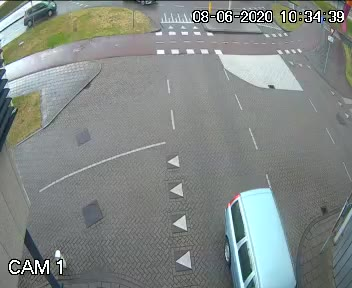car: (211, 168, 295, 288)
